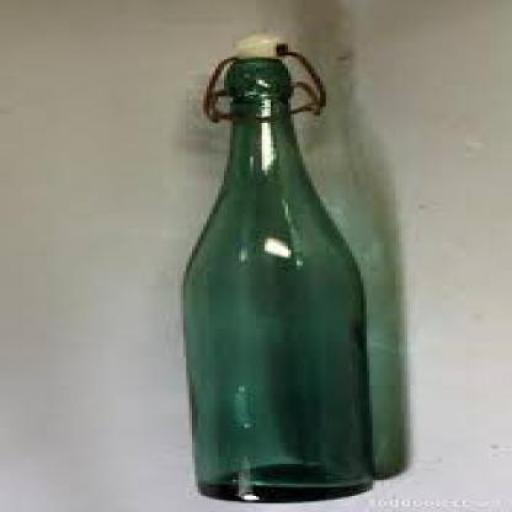glass: (177, 56, 378, 504)
plastic: (224, 30, 288, 59)
